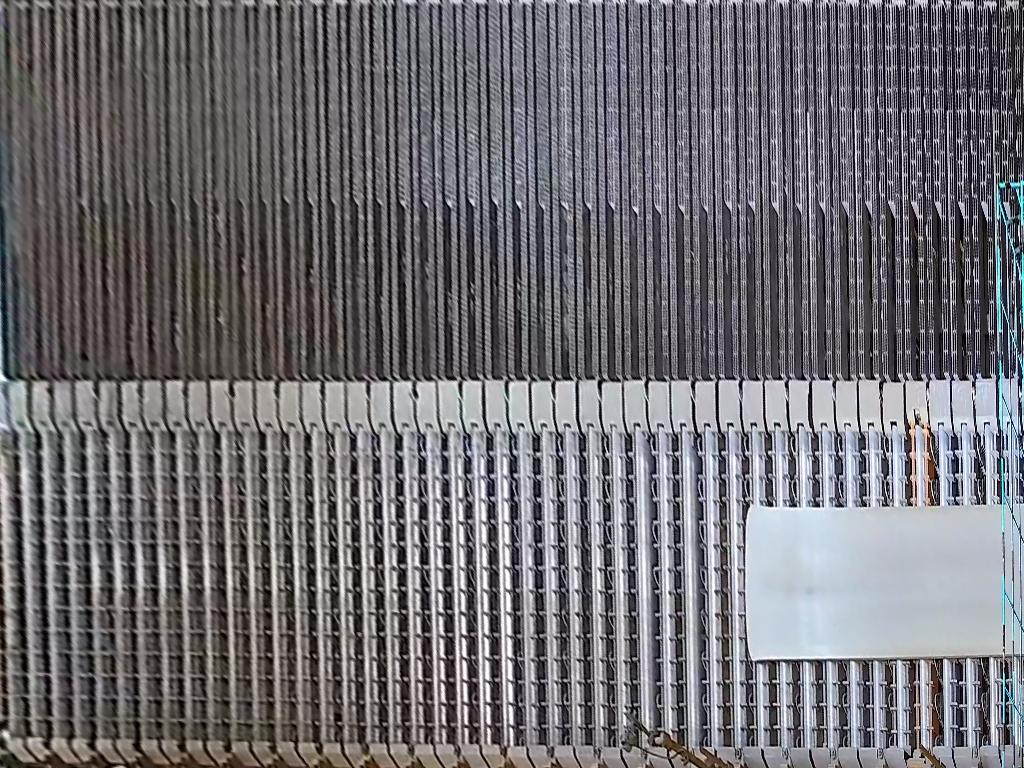steel: (744, 504, 1024, 663)
